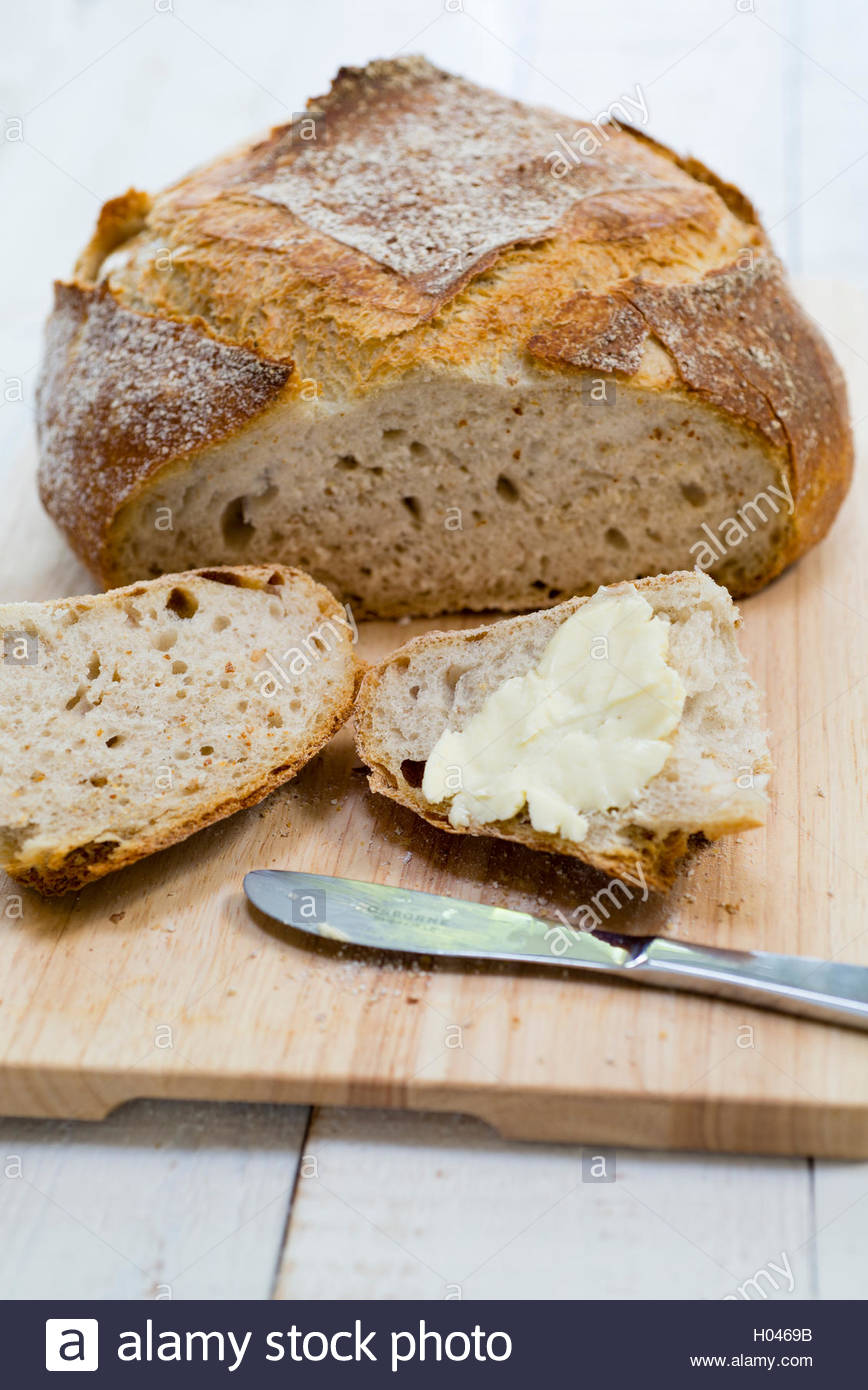slice of bread: (49, 104, 841, 594), (2, 562, 356, 874), (378, 594, 768, 859)
